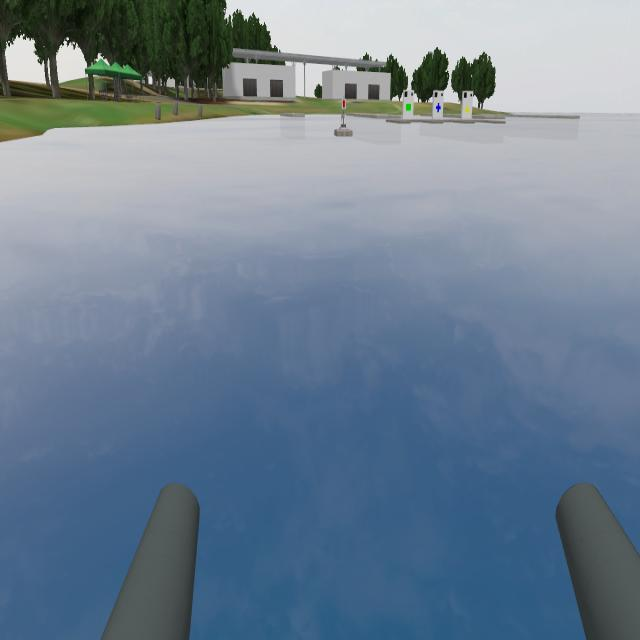red_pole: (336, 90, 352, 132)
